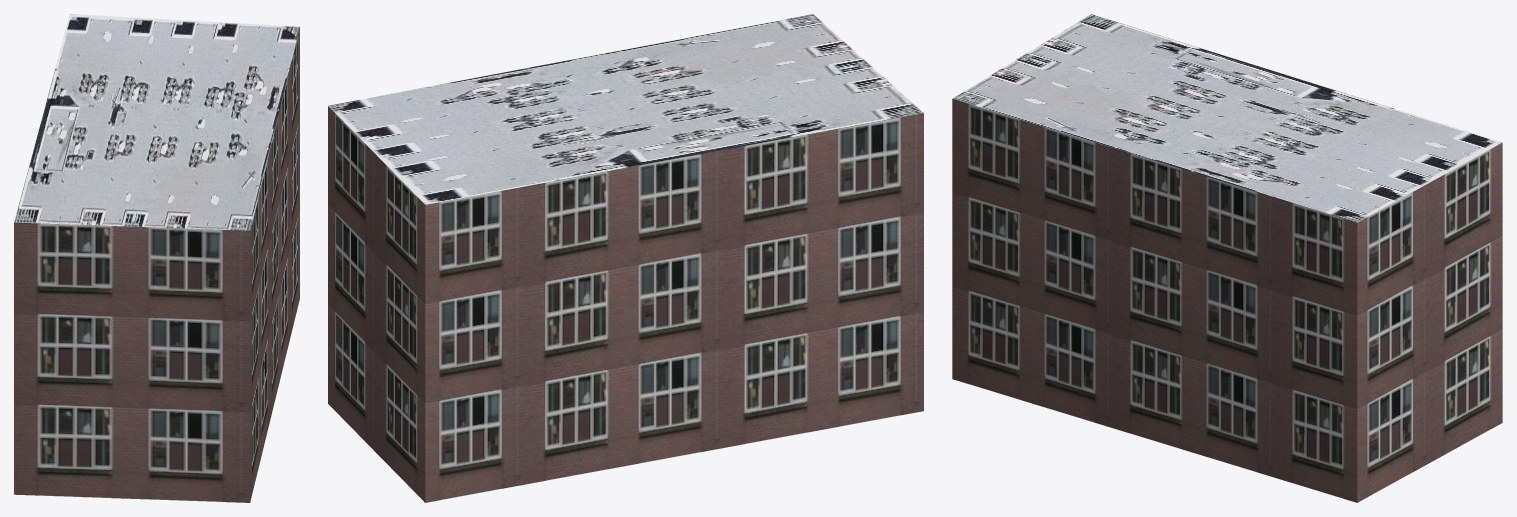
Rendered from ResTex__3766.fbx.
3 renders of one model, left to right at view 1: azimuth 30°, elevation 25°; view 2: azimuth 150°, elevation 25°; view 3: azimuth 270°, elevation 25°, orthographic. The views are drawn at different scales.
Visible parts, largest first — view 1: CityEngineMaterial_12_m, CityEngineMaterial_8_m; view 2: CityEngineMaterial_12_m, CityEngineMaterial_8_m; view 3: CityEngineMaterial_12_m, CityEngineMaterial_8_m.
Part boxes in pixels (<box>): CityEngineMaterial_12_m: <box>14,27,299,502</box>; CityEngineMaterial_8_m: <box>14,14,299,230</box>; CityEngineMaterial_12_m: <box>328,106,923,502</box>; CityEngineMaterial_8_m: <box>328,14,923,204</box>; CityEngineMaterial_12_m: <box>952,99,1502,502</box>; CityEngineMaterial_8_m: <box>952,14,1502,222</box>.
Bounding box in the file's own units: 14.36 × 9 × 16.01.
2 materials, 2 textured.
